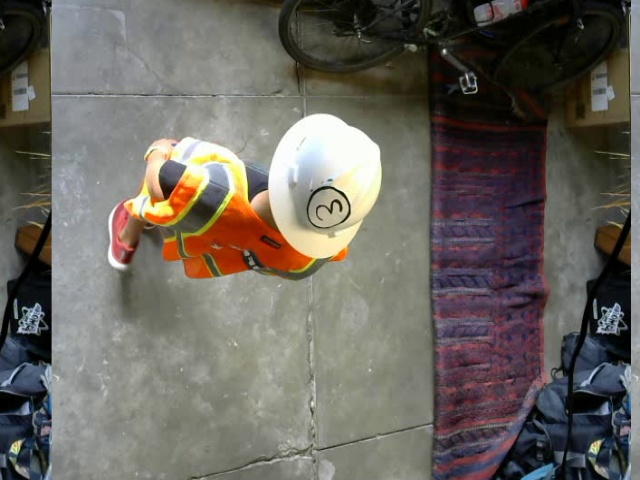three: (305, 185, 351, 228)
